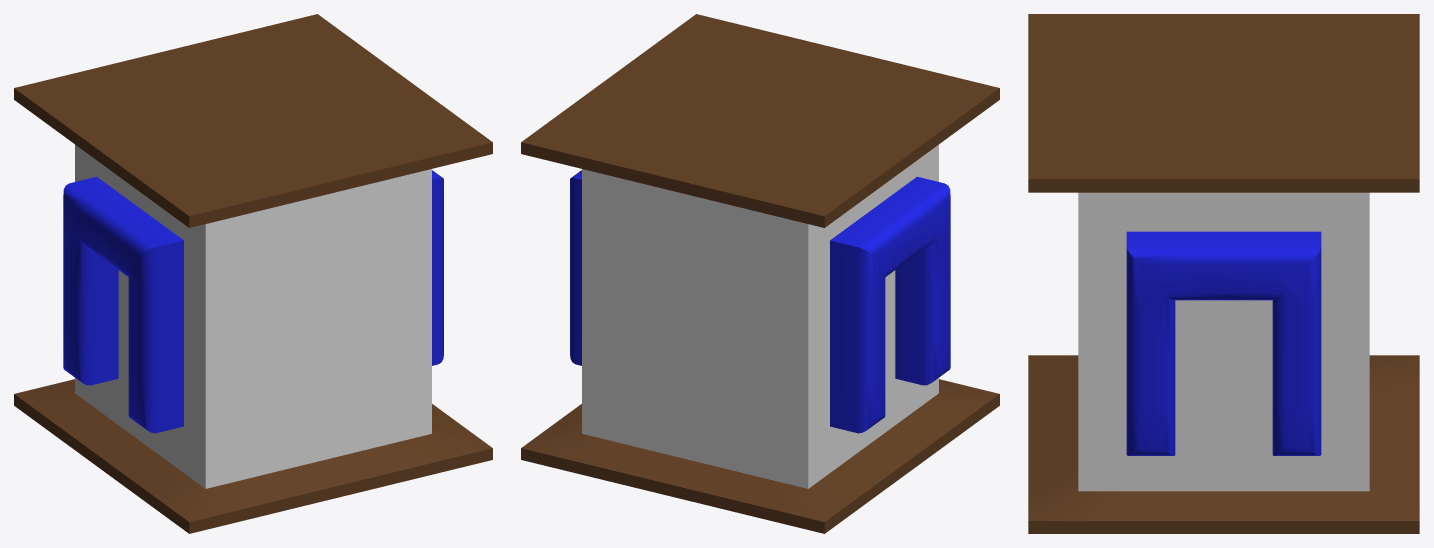
Rendered from Stand.fbx.
3 views of the same model, side by side, from view 1: azimuth 30°, elevation 25°; view 2: azimuth 150°, elevation 25°; view 3: azimuth 270°, elevation 25° (orthographic). The views are drawn at different scales.
Visible parts, largest first — view 1: Cube; view 2: Cube; view 3: Cube.
Boxes of the visible parts, x1,y1,x2,y2 form: Cube: (14, 14, 492, 533); Cube: (521, 14, 999, 533); Cube: (1028, 14, 1419, 533).
Bounding box in the file's own units: 90 × 90 × 90.
